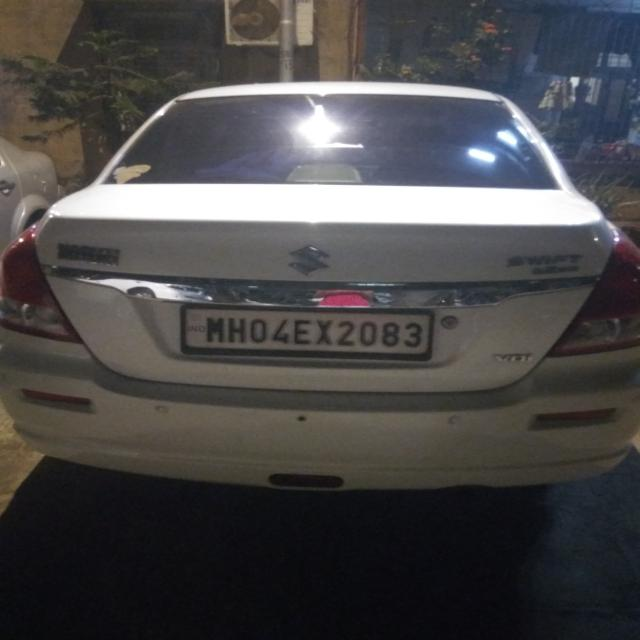Number-Plate: (188, 308, 432, 356)
